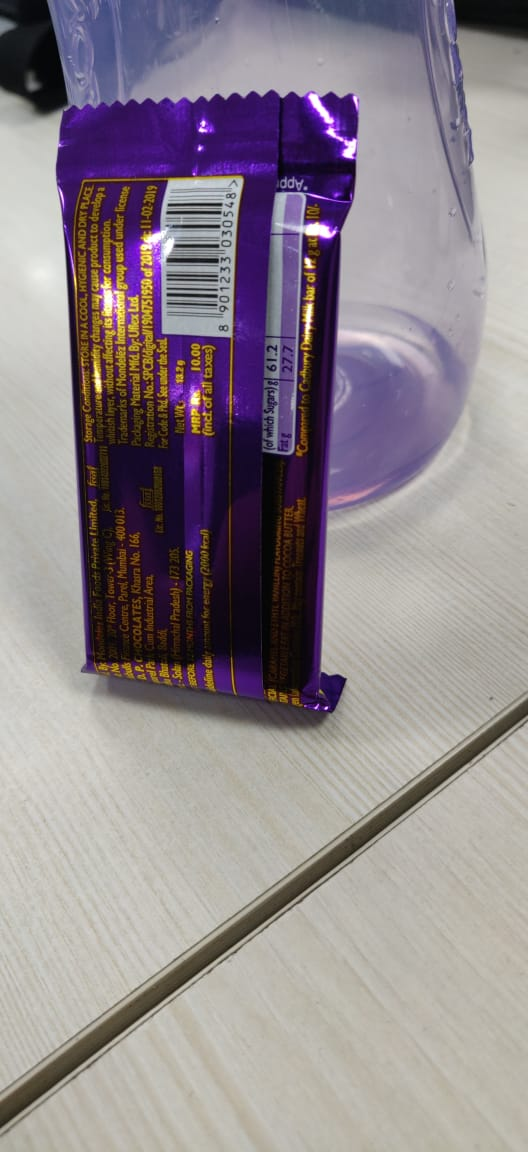dairy milk: (43, 88, 375, 746)
